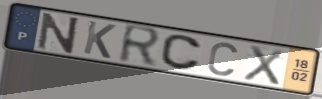C: (159, 33, 203, 72), (206, 40, 240, 78)
K: (81, 19, 118, 61)
N: (36, 11, 82, 55)
R: (116, 22, 164, 69)
X: (241, 44, 286, 87)
